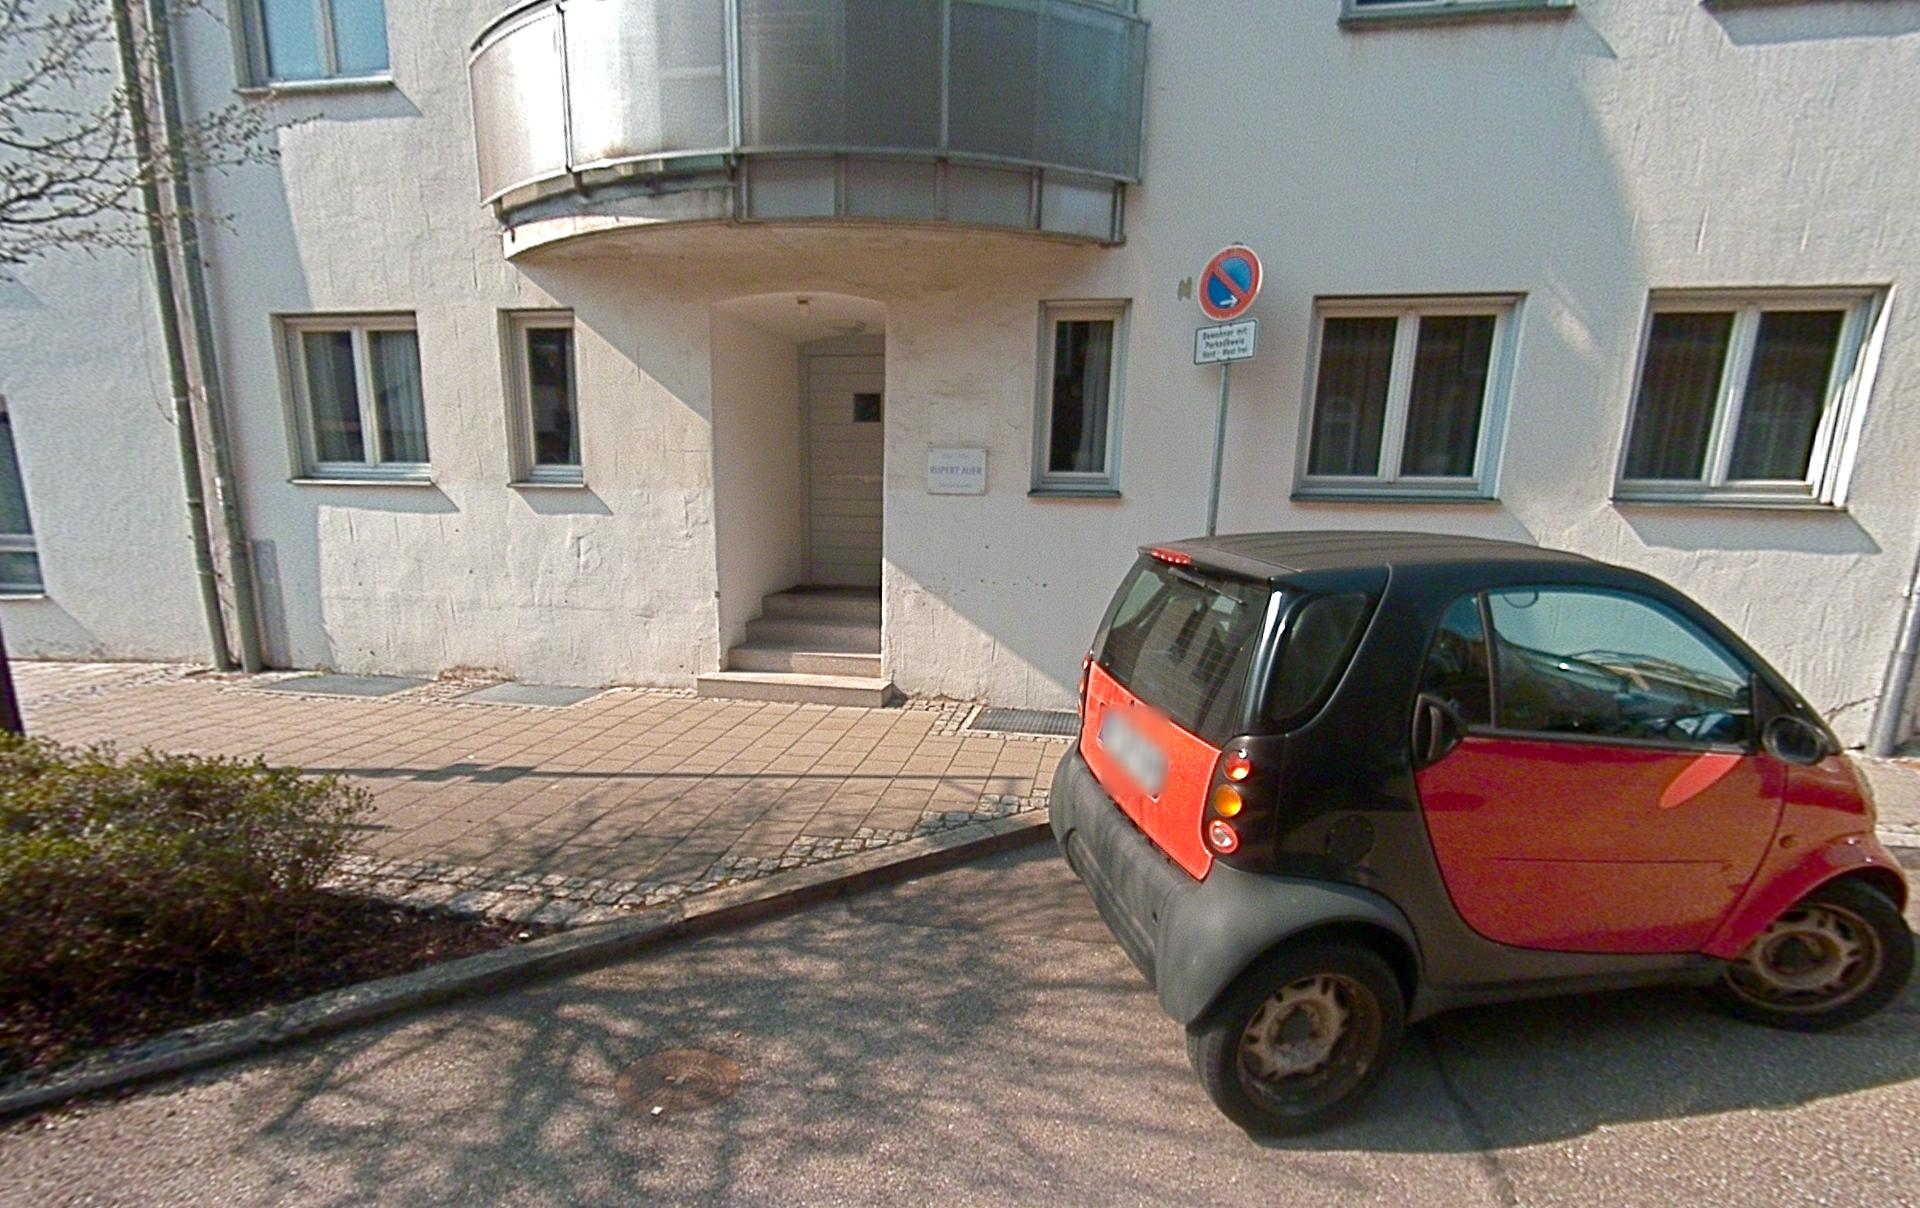car: (1048, 527, 1913, 1137)
traffic sign: (1197, 245, 1263, 321), (1192, 319, 1258, 366)
